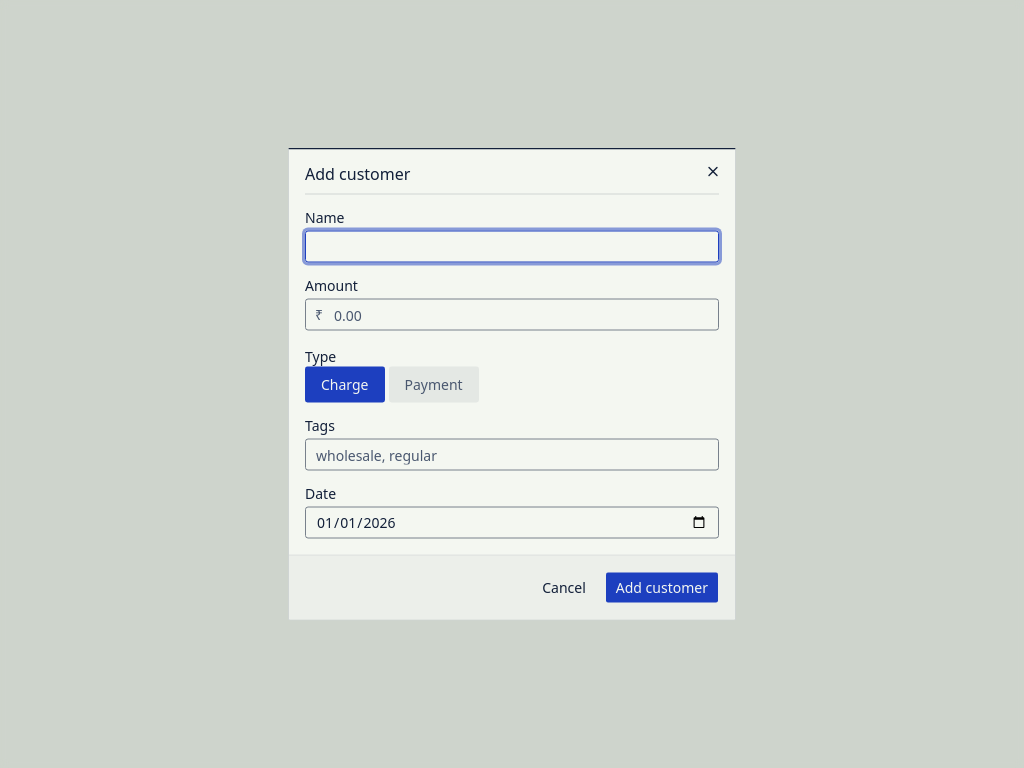
Test: EntityDialog › keeps the dialog open with values intact when the save fails
Type "Asha" into the field labelled "Name" at (512, 246), box [305,230,719,262]
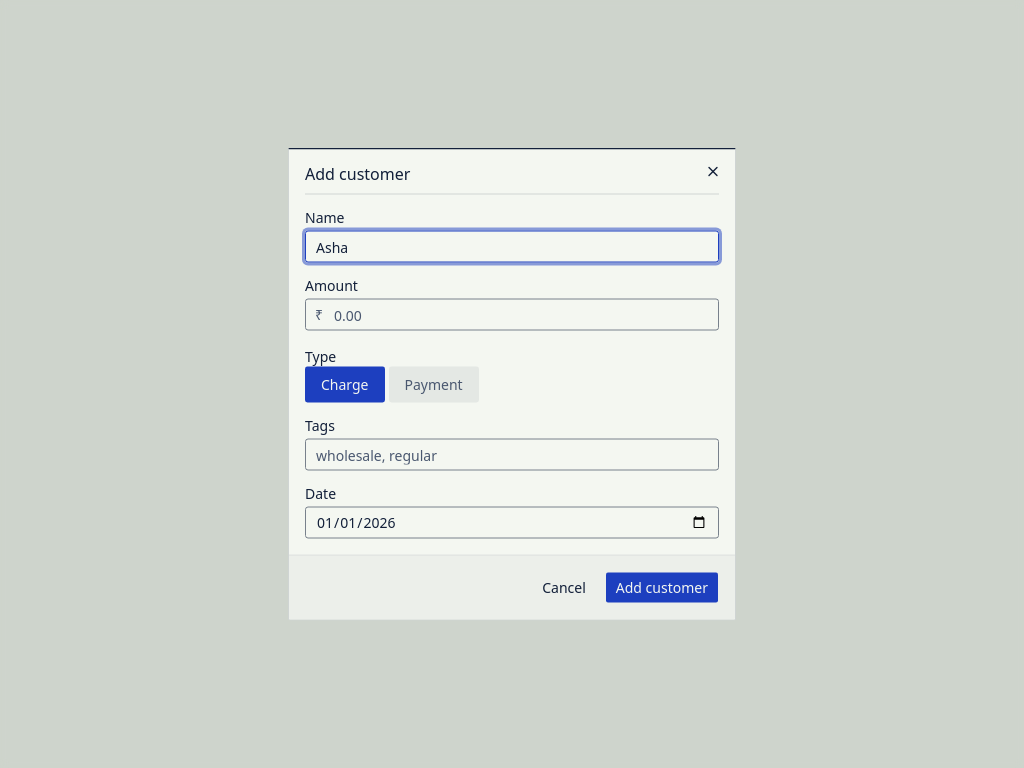
Type "500" into the number field labelled "Amount" at (512, 314), box [305,298,719,330]
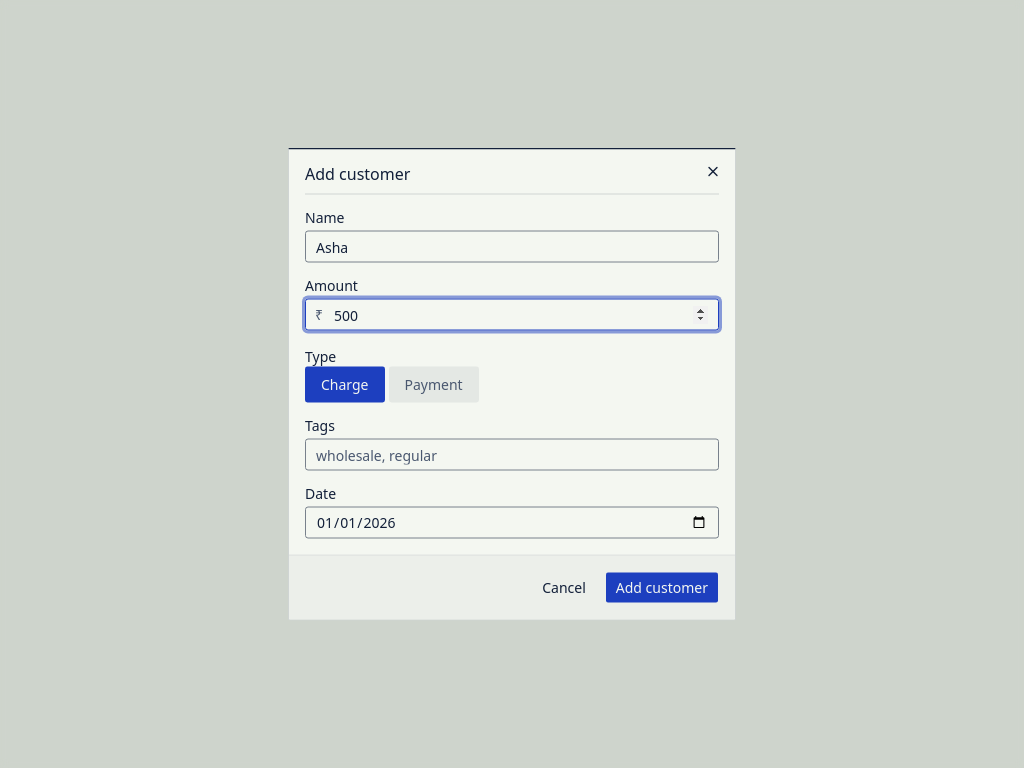
Click the button "Add customer" at (662, 588), box [605,572,719,604]
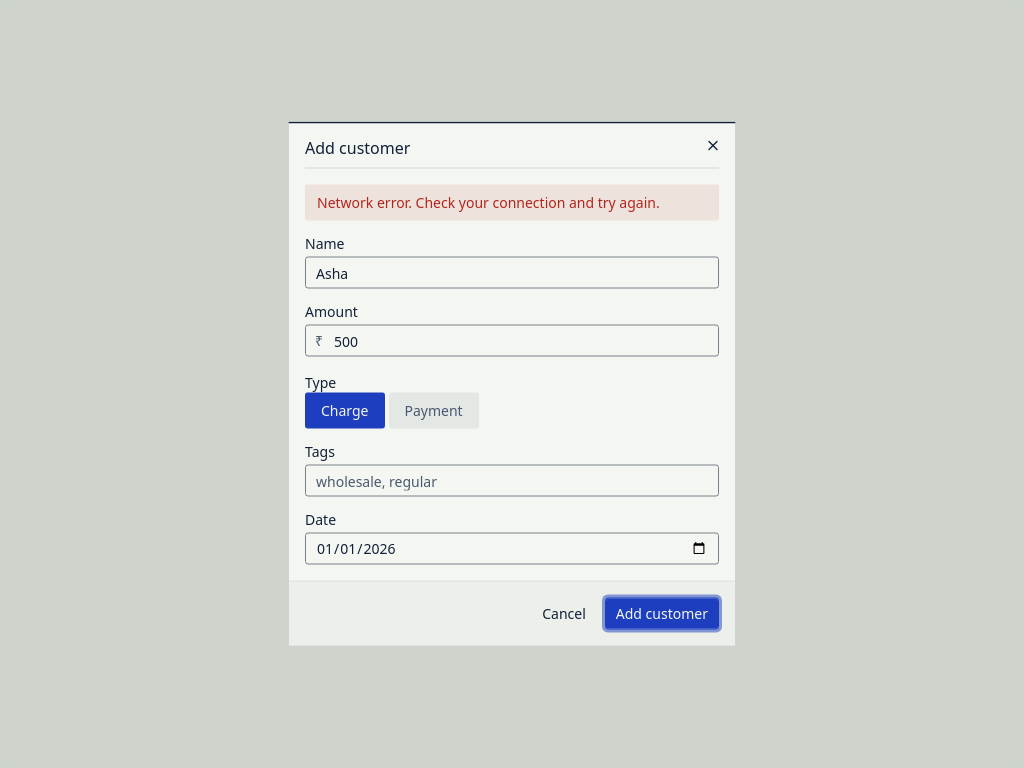
Check: the message "Network error. Check your connection and try again." is shown, box [305,184,719,220]
